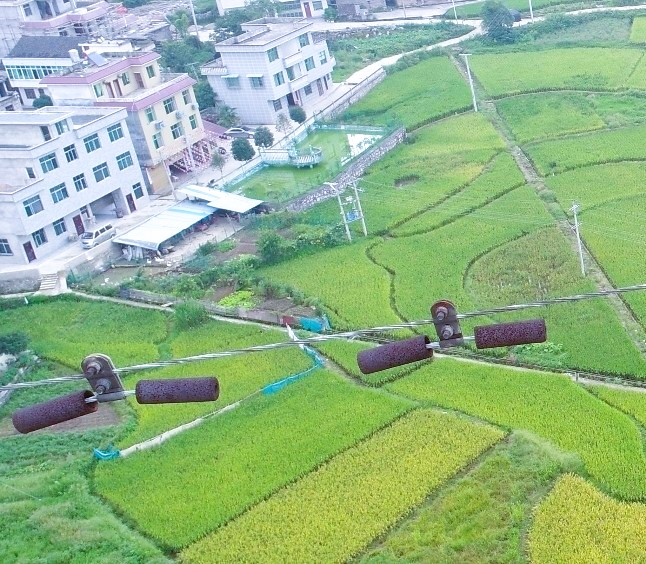Shockproof hammer: (7, 350, 229, 434), (350, 294, 553, 379)
